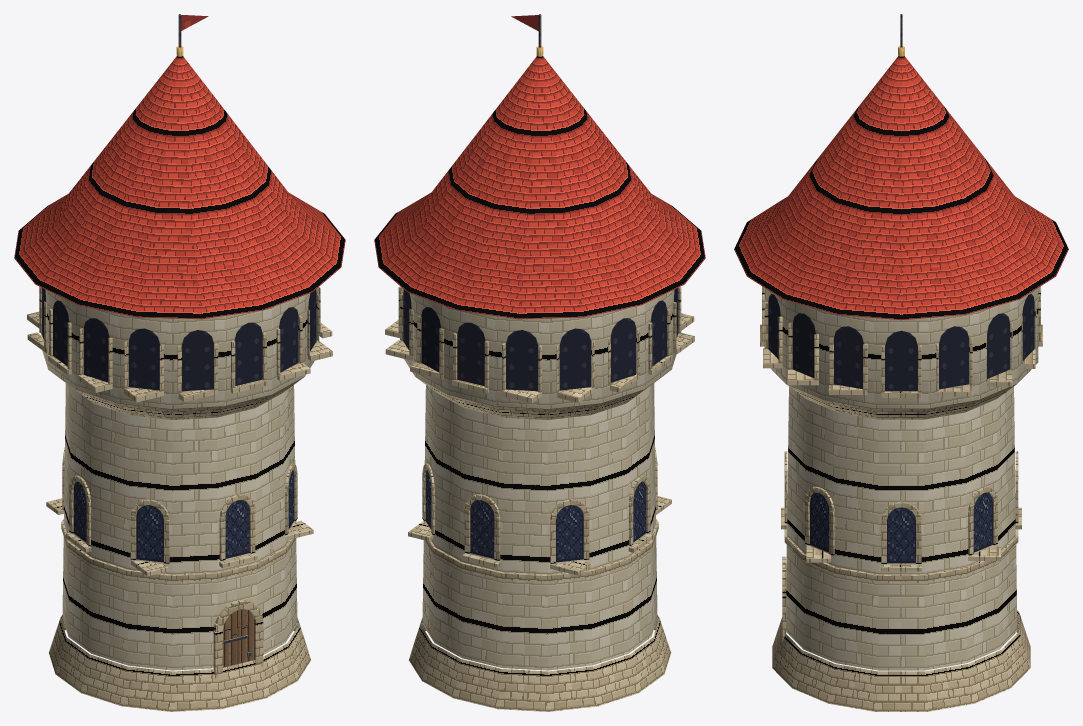
File: med_round_tower_0.glb
3 renders of one model, left to right at view 1: azimuth 30°, elevation 25°; view 2: azimuth 150°, elevation 25°; view 3: azimuth 270°, elevation 25°, orthographic.
Parts seen in each view (by area): view 1: med_round_tower_1; view 2: med_round_tower_1; view 3: med_round_tower_1.
Part boxes in pixels (x1,y1,x2,y2): med_round_tower_1: (14, 14, 345, 711); med_round_tower_1: (374, 14, 705, 711); med_round_tower_1: (734, 14, 1068, 711).
Bounding box in the file's own units: 8.52 × 18.05 × 8.52.
9 materials, 9 textured.
